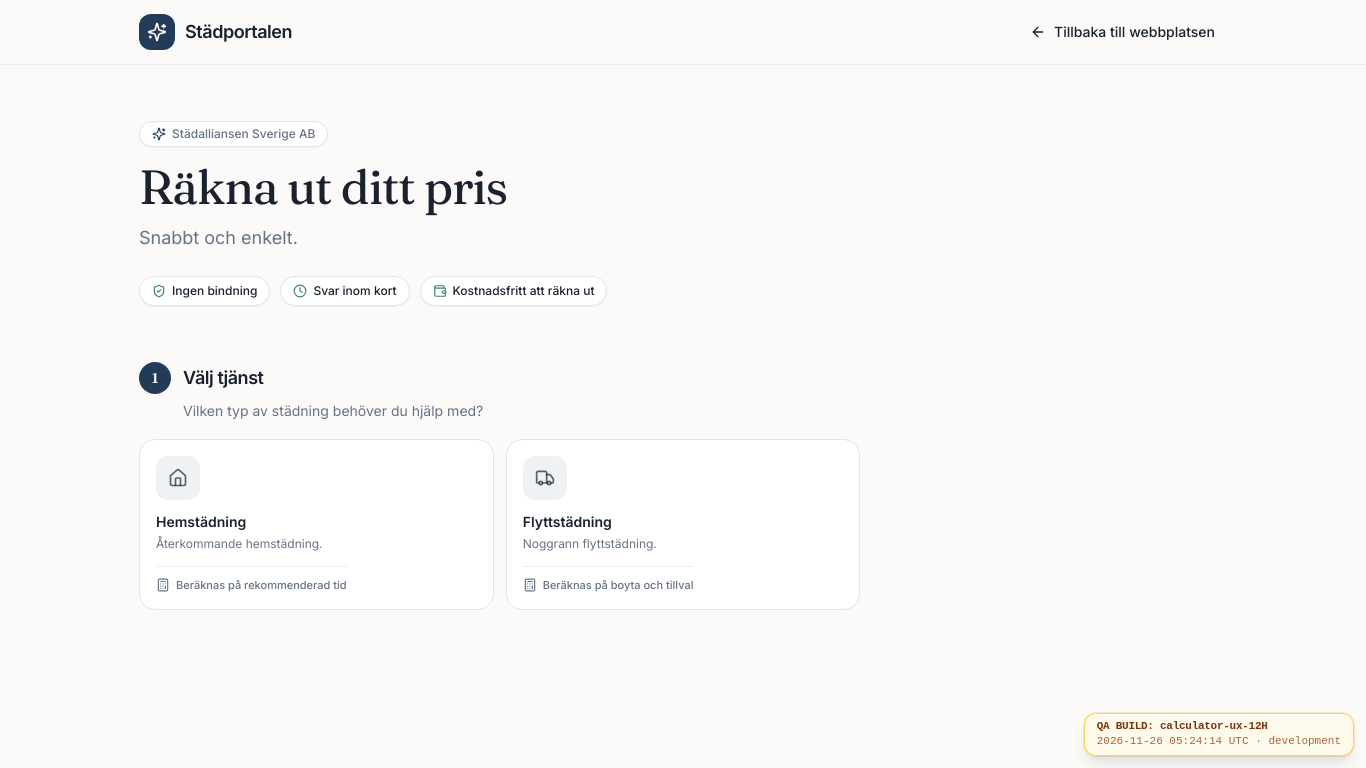
Scenario: PriceCalculator — enabled form › home cleaning shows the cleaning-plan selector with the default plan selected
Click the button "Hemstädning".
click(178, 478)  # box [139,439,494,610]
(page scrolled)
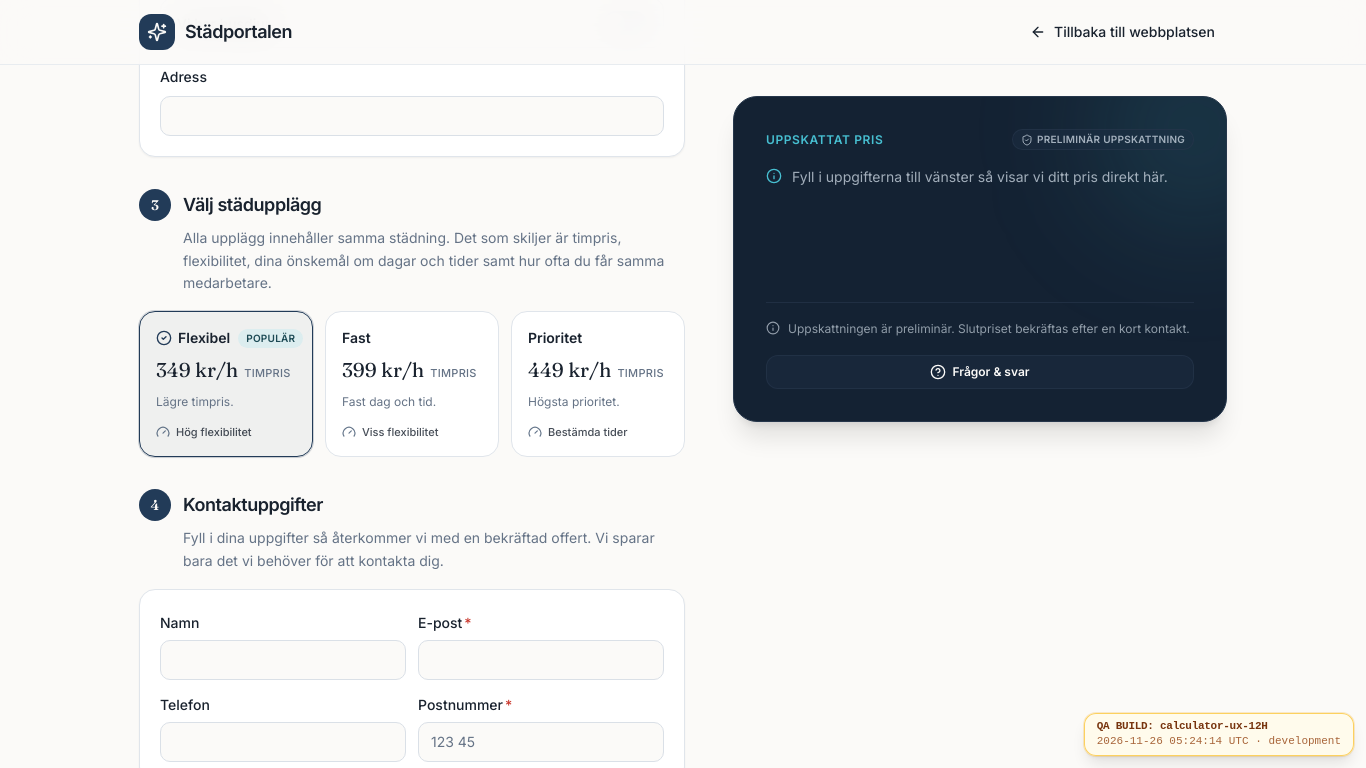
Now the heading "Välj städupplägg" is shown, box [183,191,321,219]
Now the button "Prioritet 449 kr/h timpris Högsta prioritet. Bestämda tider" is shown, box [511,311,685,457]
